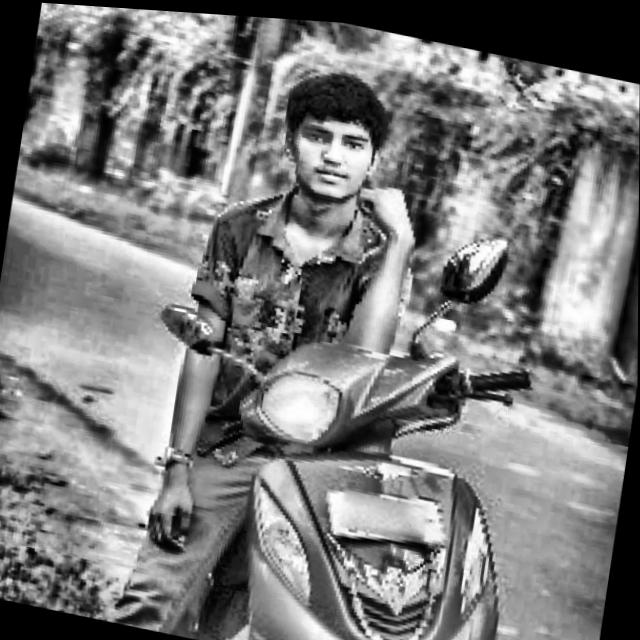motorcycle: (84, 153, 560, 640)
